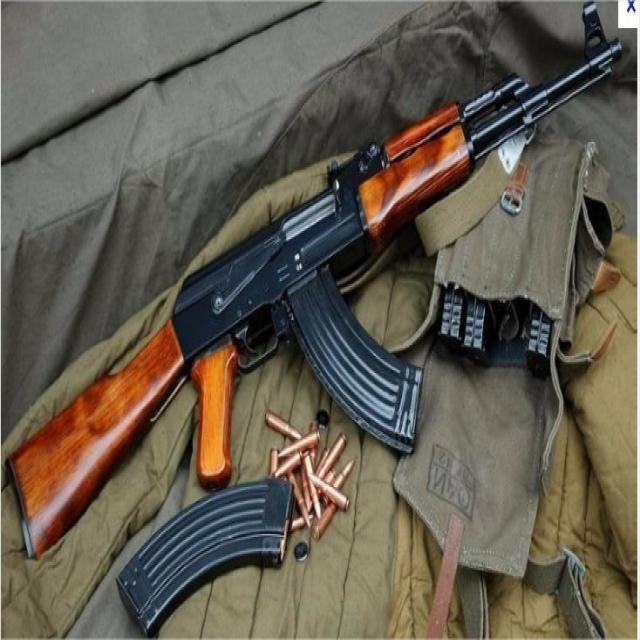weapon: (6, 1, 625, 562)
